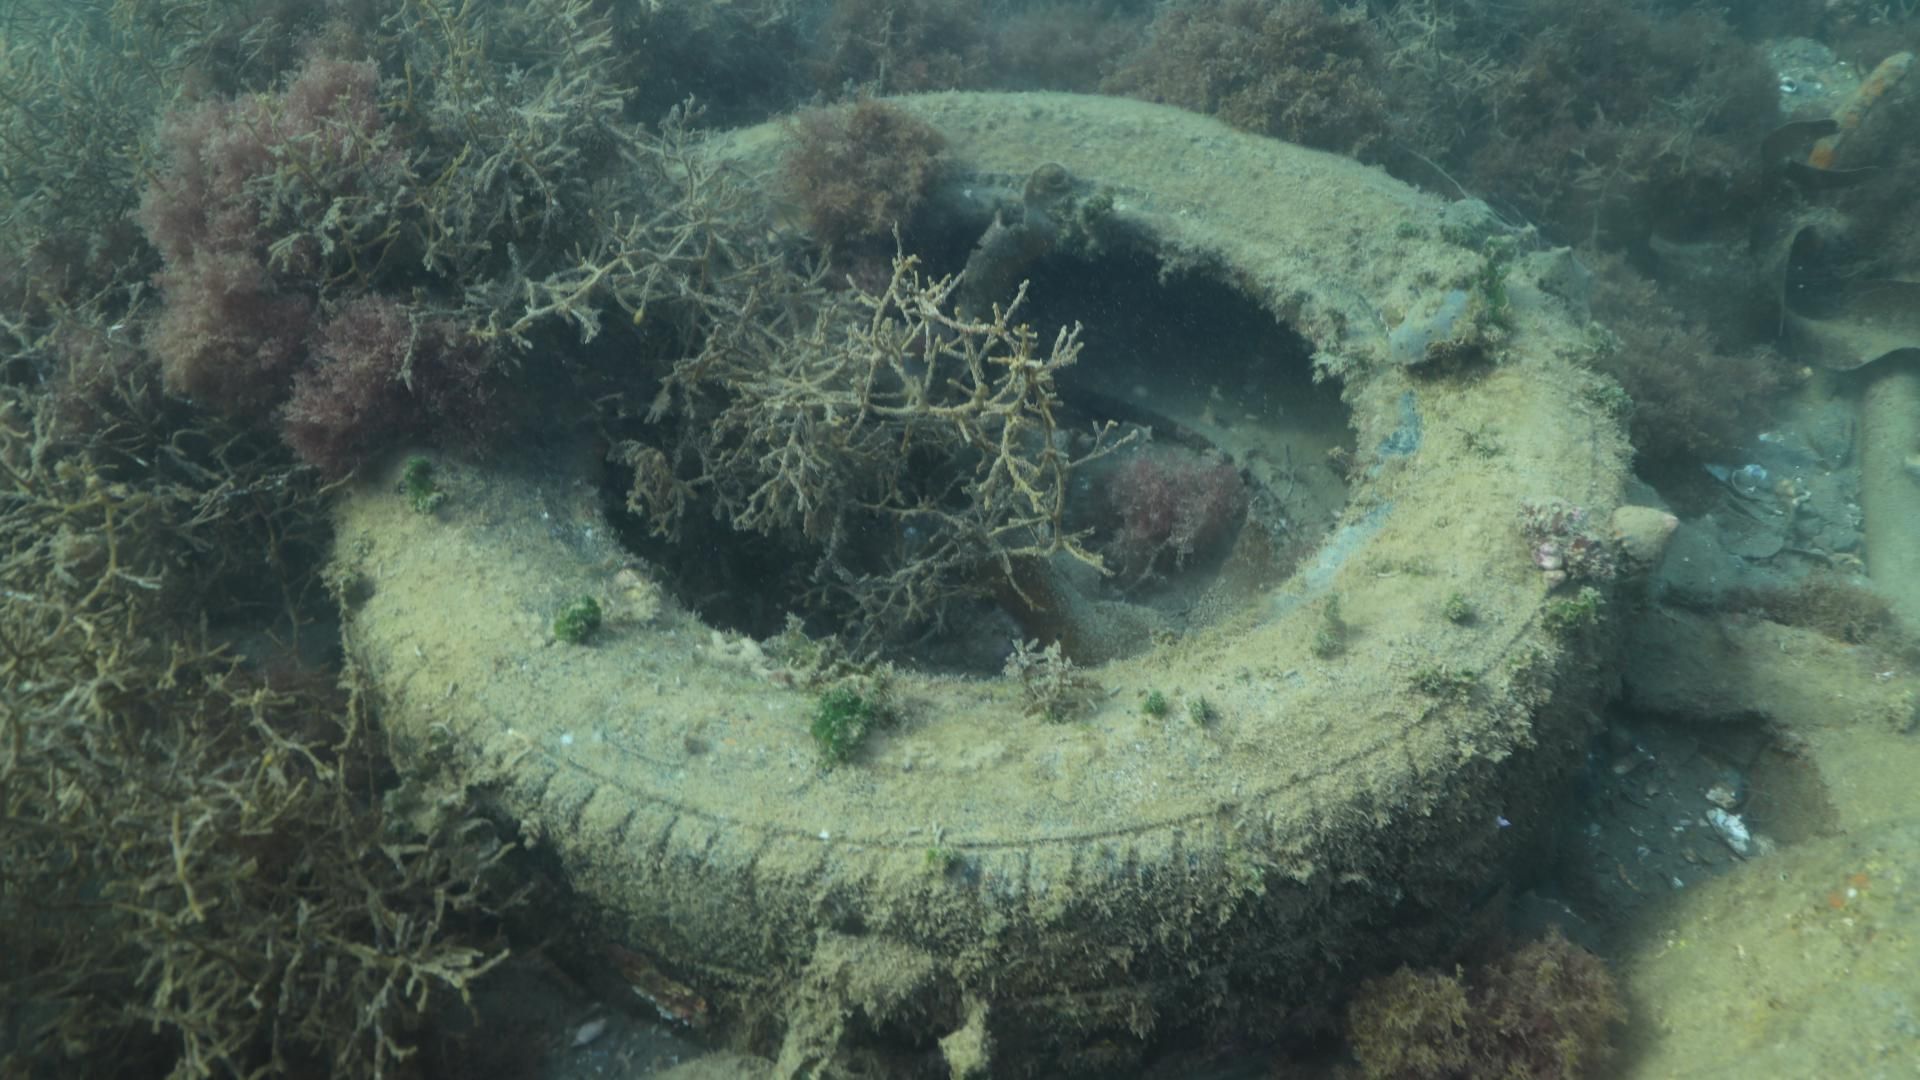tire: (336, 84, 1629, 1054)
